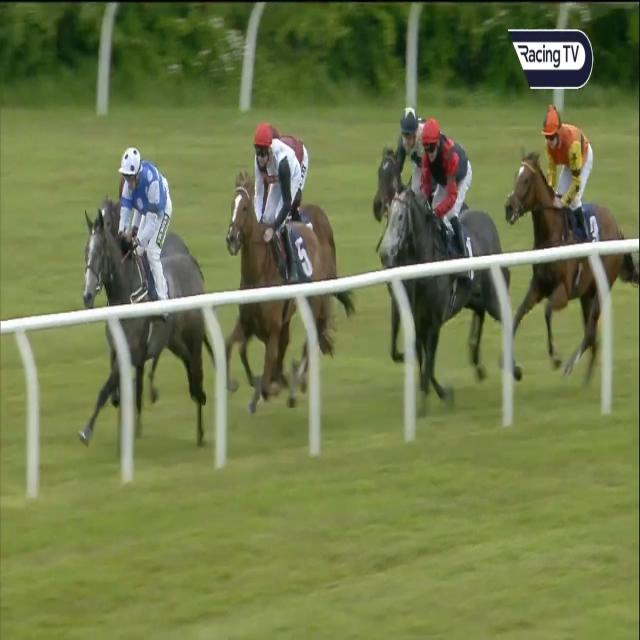horses-racing: (211, 127, 351, 416), (501, 99, 640, 387), (383, 118, 514, 405), (87, 136, 210, 438), (261, 100, 357, 253), (374, 115, 462, 209)
